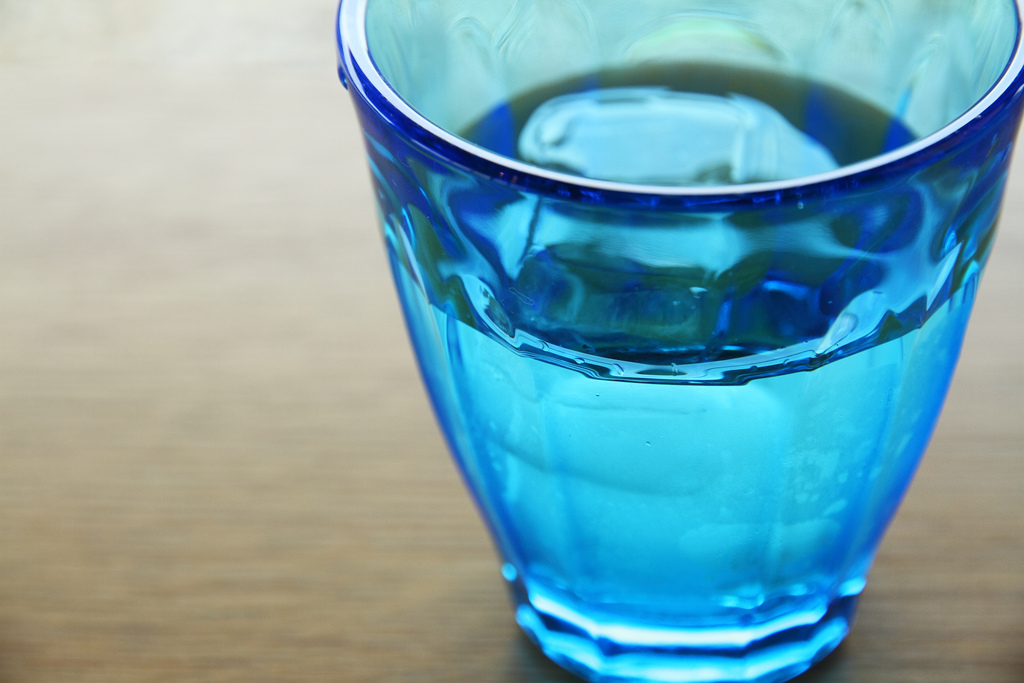glass of water: (337, 2, 1014, 682)
